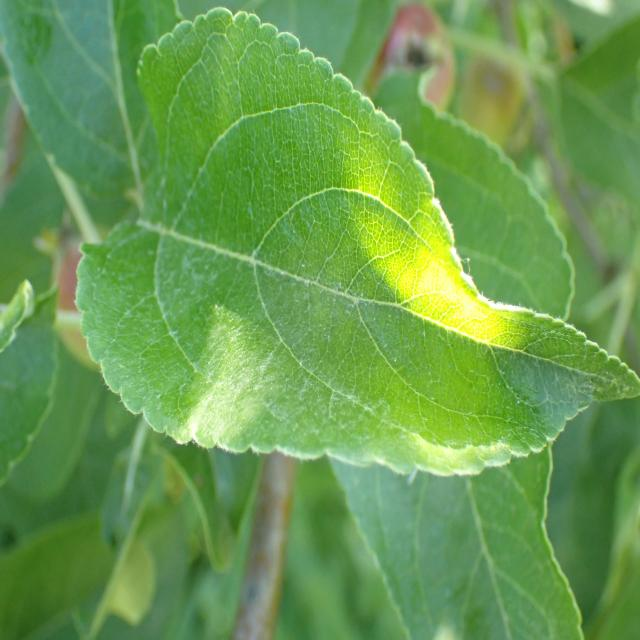healthy: (74, 6, 640, 478), (328, 439, 583, 640), (0, 0, 181, 201), (0, 279, 60, 486)
